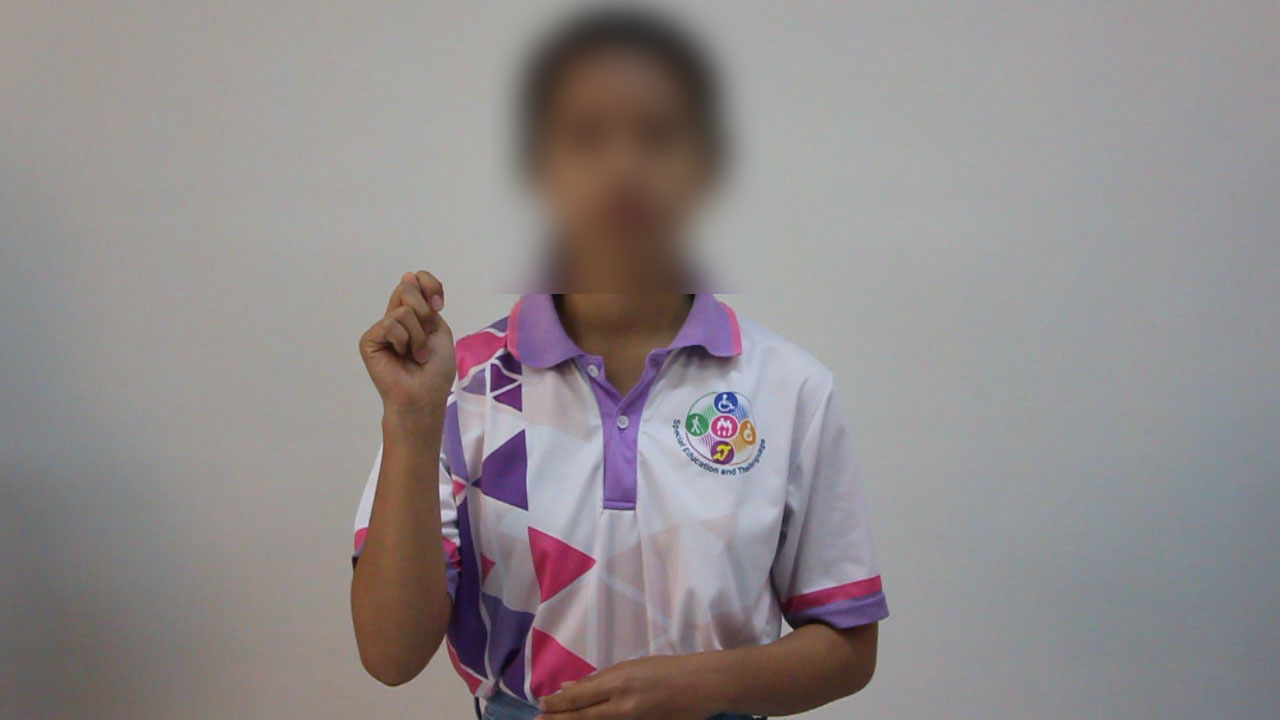tor: (338, 256, 497, 438)
